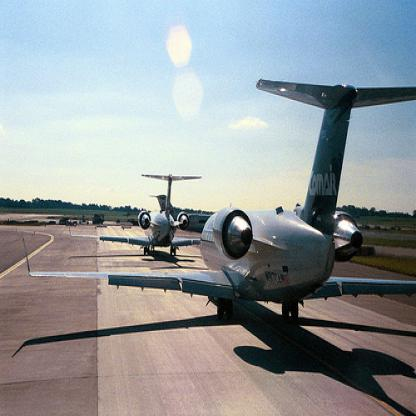aeroplane: (20, 78, 415, 324), (67, 172, 202, 256), (149, 194, 219, 232)
